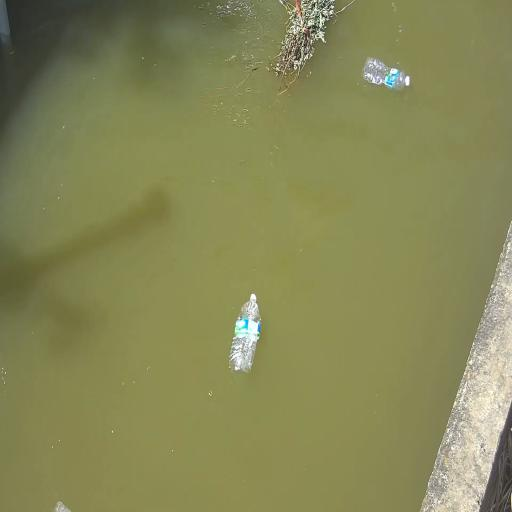plastic: (229, 294, 260, 373), (363, 58, 410, 90), (52, 500, 72, 512)
twig: (238, 0, 356, 100)
